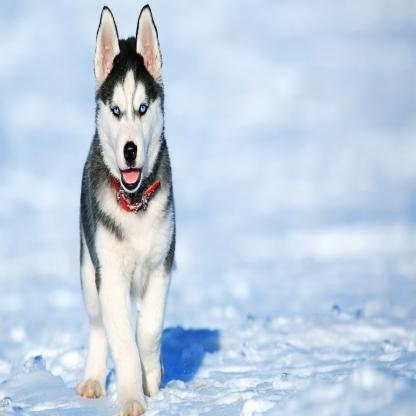husky: (76, 7, 179, 416)
